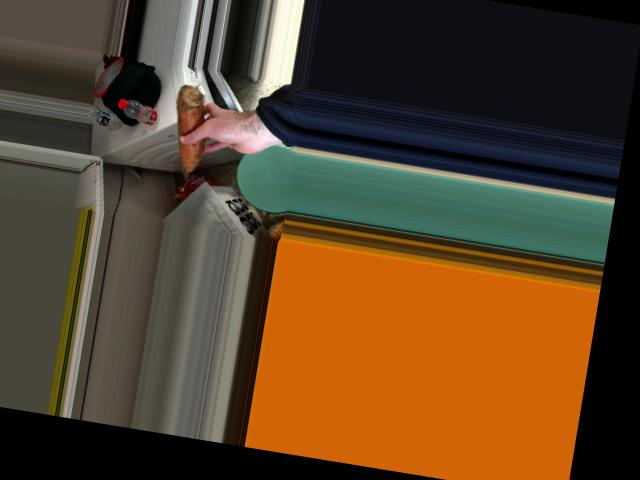sweet_potato: (172, 84, 210, 177)
